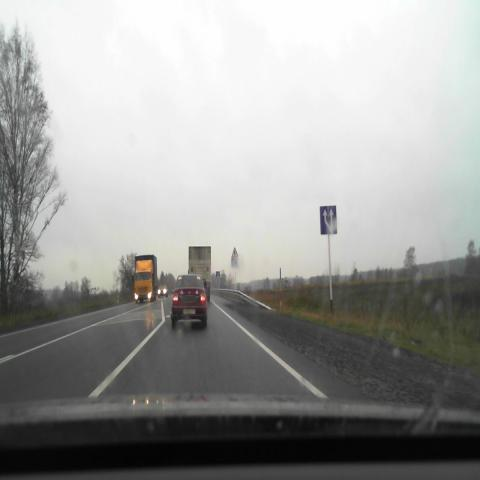5_15_3: (320, 205, 337, 235)
